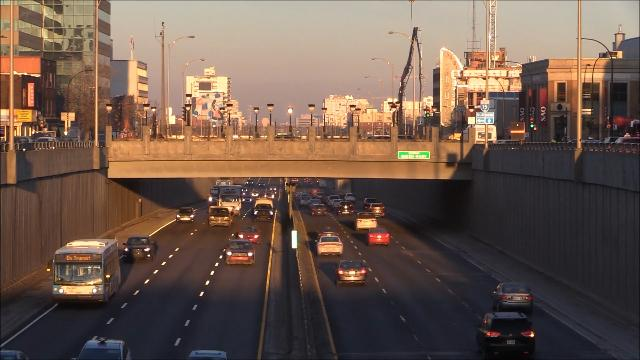bus: (51, 238, 123, 306)
car: (476, 313, 538, 358), (493, 280, 536, 313), (124, 232, 154, 264), (335, 259, 368, 286), (227, 240, 256, 266), (315, 237, 344, 256), (237, 224, 262, 244), (367, 226, 390, 246), (209, 208, 233, 227), (355, 212, 378, 230), (252, 203, 274, 221), (177, 206, 197, 224), (315, 226, 339, 239), (336, 202, 355, 216), (310, 204, 328, 217), (369, 204, 386, 217), (228, 200, 240, 215), (308, 199, 324, 210), (362, 198, 378, 209), (298, 196, 311, 208), (330, 200, 344, 211), (345, 193, 357, 203), (218, 178, 233, 186), (323, 194, 335, 204), (312, 191, 325, 200), (241, 188, 251, 197), (336, 192, 346, 200), (242, 196, 253, 203), (250, 190, 259, 198), (262, 191, 271, 199), (304, 178, 313, 185), (245, 180, 255, 186), (290, 181, 298, 188), (319, 180, 326, 187), (269, 186, 277, 192), (311, 189, 319, 195), (257, 182, 266, 187), (294, 193, 301, 199), (291, 178, 299, 182), (315, 178, 319, 183)
truck: (209, 187, 220, 203)
